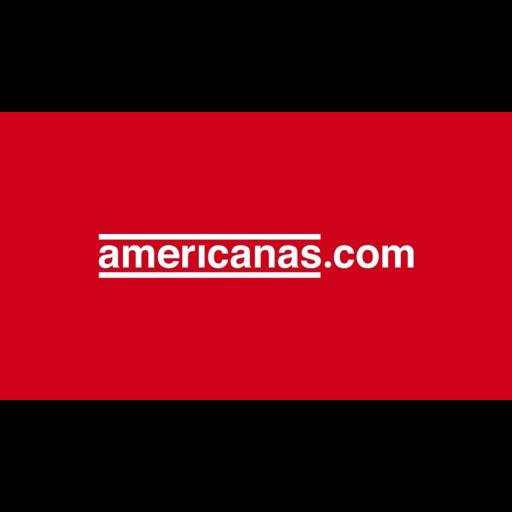Americanas-com S: (0, 112, 512, 400)
